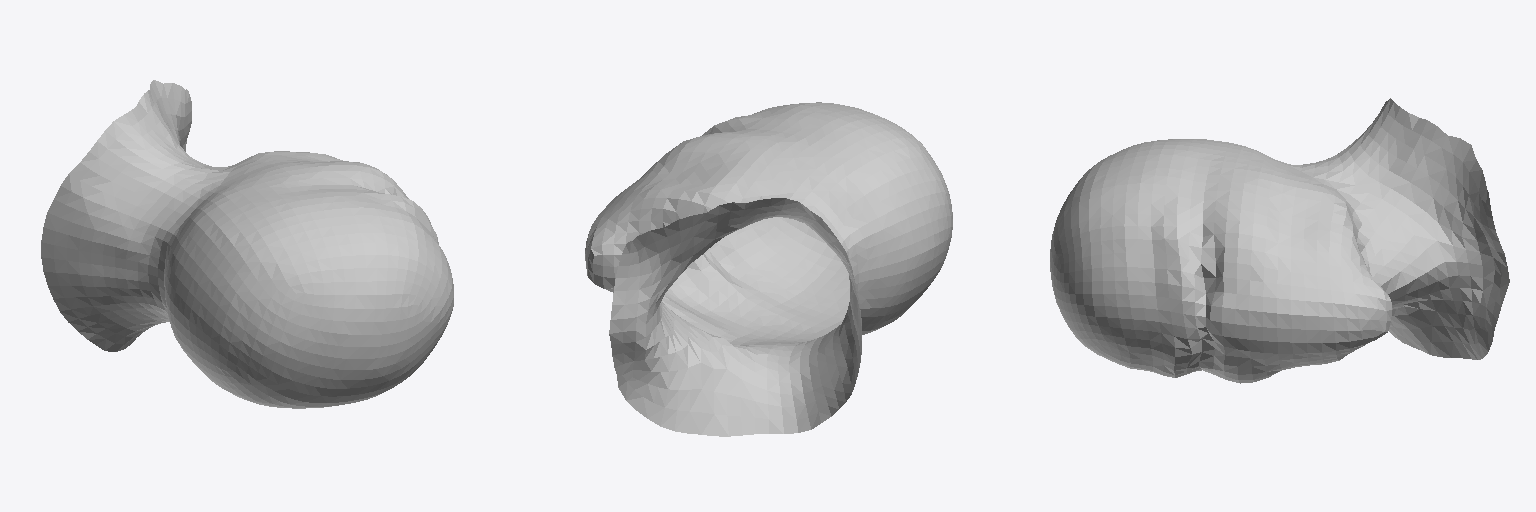
File: ninja.obj
3 views of the same model, side by side, from view 1: azimuth 30°, elevation 25°; view 2: azimuth 150°, elevation 25°; view 3: azimuth 270°, elevation 25° (orthographic).
Parts seen in each view (by area): view 1: ninja1; view 2: ninja1; view 3: ninja1.
Boxes of the visible parts, x1=… form: ninja1: x1=41, y1=80, x2=453, y2=408; ninja1: x1=585, y1=102, x2=952, y2=436; ninja1: x1=1050, y1=98, x2=1509, y2=383.
Bounding box in the file's own units: 4.02 × 2.93 × 5.18.